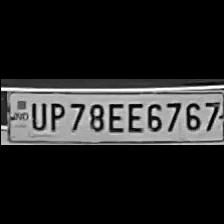6: (180, 99, 202, 131), (144, 100, 162, 132)
7: (65, 99, 85, 133), (202, 98, 220, 132), (162, 100, 180, 132)
8: (85, 100, 105, 134)
E: (104, 99, 124, 133), (123, 100, 143, 134)
P: (44, 100, 64, 132)
U: (26, 99, 46, 130)
